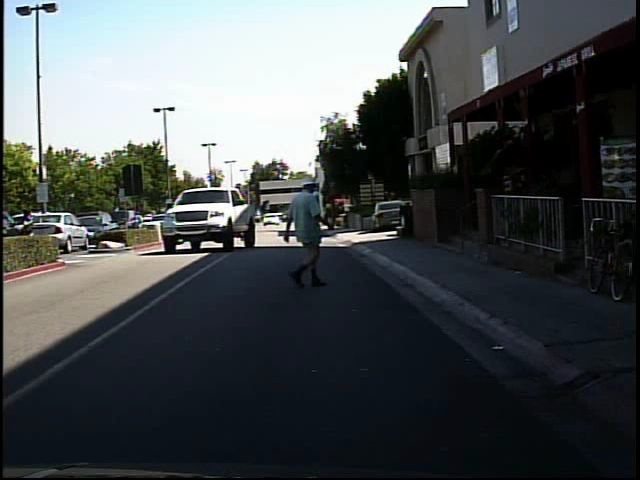person: (276, 168, 335, 291), (16, 203, 42, 262), (131, 207, 148, 242), (213, 205, 229, 229)
